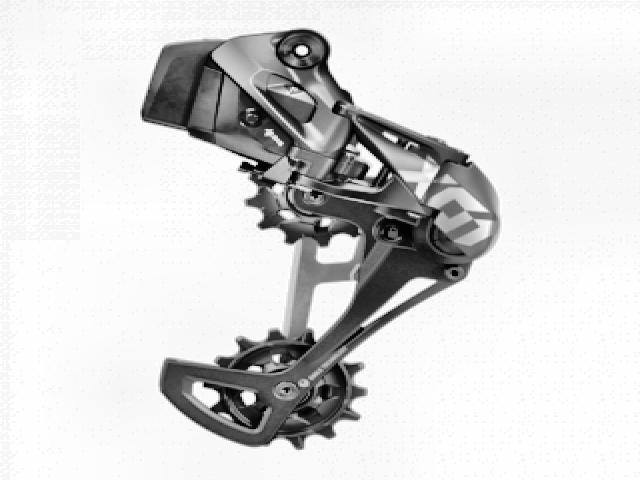rear_derailleur: (139, 27, 504, 450)
